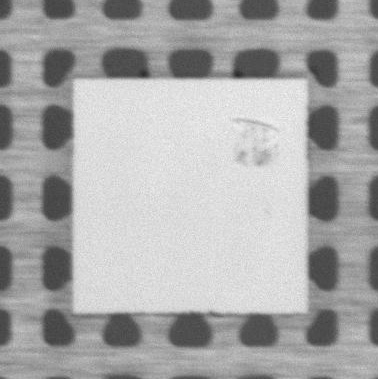DIE_INK: (227, 111, 281, 171)
